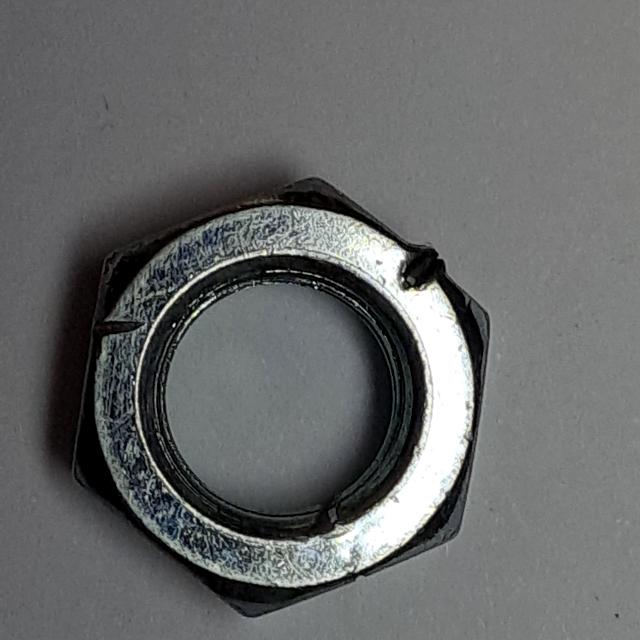Scratches: (66, 164, 502, 635)
